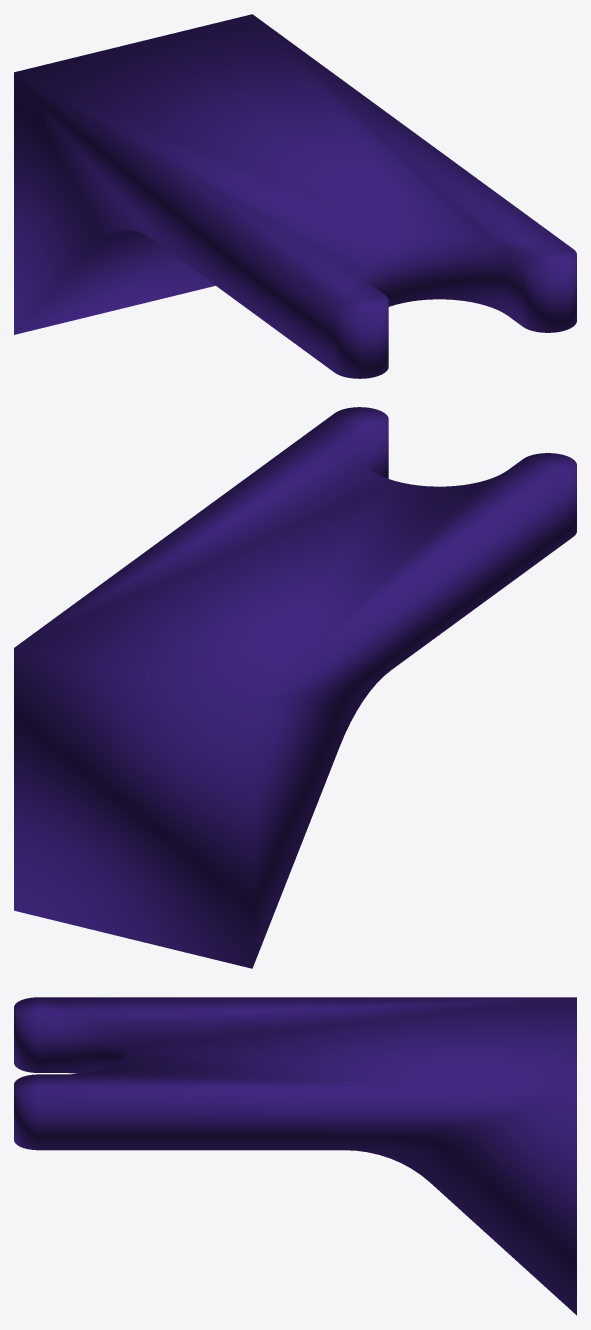
File: rail_support.obj
The picture shows the model from 3 angles, top to bottom: view 1: azimuth 30°, elevation 25°; view 2: azimuth 150°, elevation 25°; view 3: azimuth 270°, elevation 25°; orthographic projection. The views are drawn at different scales.
Bounding box in the file's own units: 0.038 × 0.04 × 0.0925.
